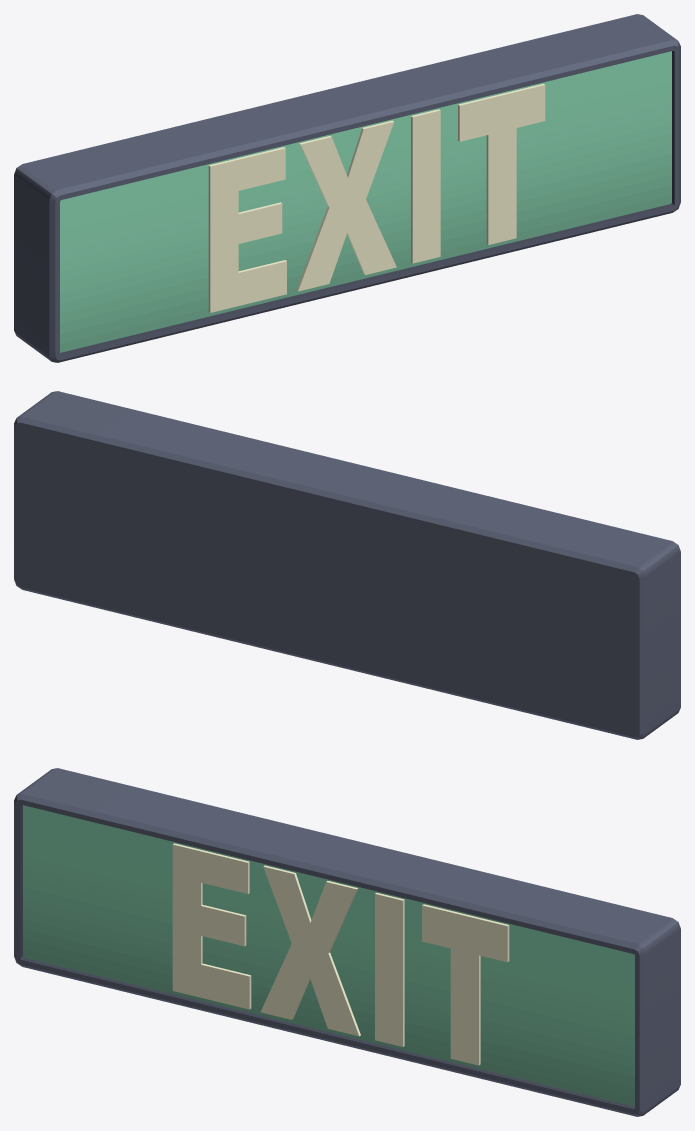
Rendered from SM_ExitSign.fbx.
The picture shows the model from 3 angles, top to bottom: view 1: azimuth 30°, elevation 25°; view 2: azimuth 150°, elevation 25°; view 3: azimuth 330°, elevation 25°; orthographic projection.
Visible parts, largest first — view 1: exit_sign; view 2: exit_sign; view 3: exit_sign.
Part boxes in pixels (bbox=[...]): exit_sign: bbox=[14, 14, 680, 362]; exit_sign: bbox=[14, 391, 680, 739]; exit_sign: bbox=[14, 768, 680, 1116].
Bounding box in the file's own units: 96.9 × 25.36 × 10.56.
